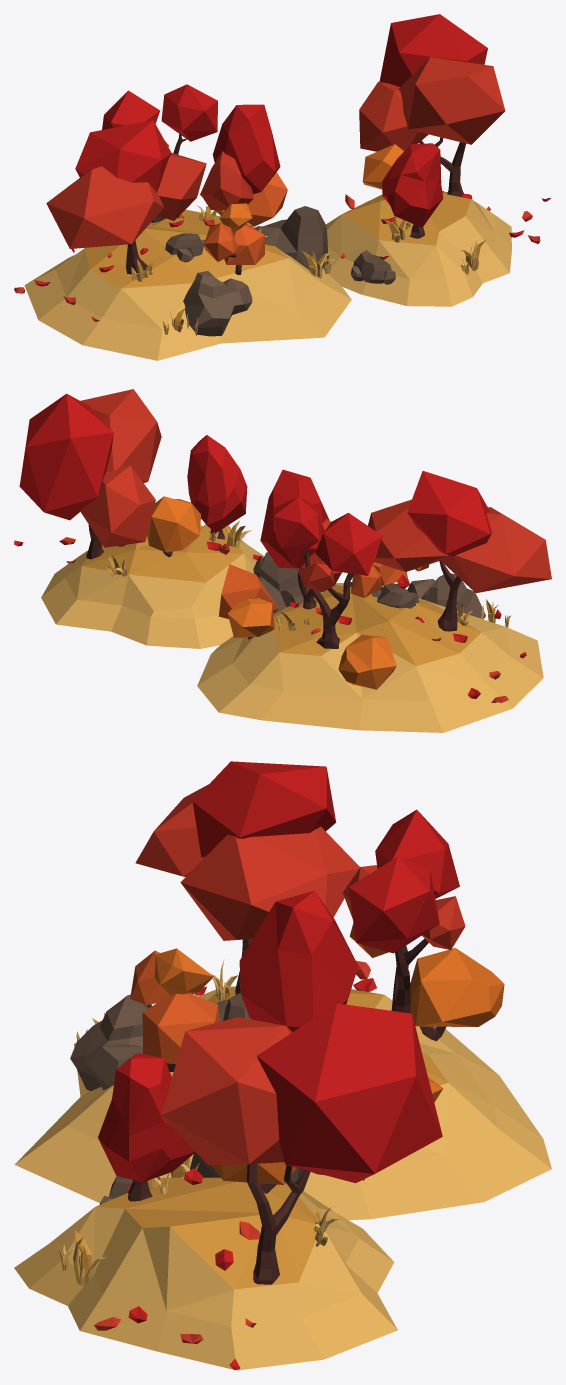
The picture shows the model from 3 angles, top to bottom: view 1: azimuth 30°, elevation 25°; view 2: azimuth 150°, elevation 25°; view 3: azimuth 270°, elevation 25°; orthographic projection. The views are drawn at different scales.
Parts seen in each view (by area): view 1: sample_island_autumn_tree_set_mat_0; view 2: sample_island_autumn_tree_set_mat_0; view 3: sample_island_autumn_tree_set_mat_0.
Part boxes in pixels (left/top/right/bottom): sample_island_autumn_tree_set_mat_0: left=14, top=14, right=550, bottom=360; sample_island_autumn_tree_set_mat_0: left=14, top=389, right=551, bottom=732; sample_island_autumn_tree_set_mat_0: left=14, top=761, right=551, bottom=1370.
Size of the model in its own units: 2234 by 858 by 1254.
Materials: 1 (1 with a texture image).
